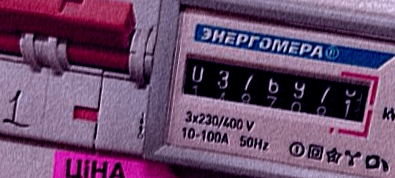0: (188, 61, 207, 84)
1: (341, 97, 355, 120)
3: (215, 67, 232, 92)
6: (267, 72, 282, 95)
7: (241, 68, 257, 93), (317, 81, 333, 105)
9: (291, 77, 307, 101)
screen: (172, 45, 382, 142)
